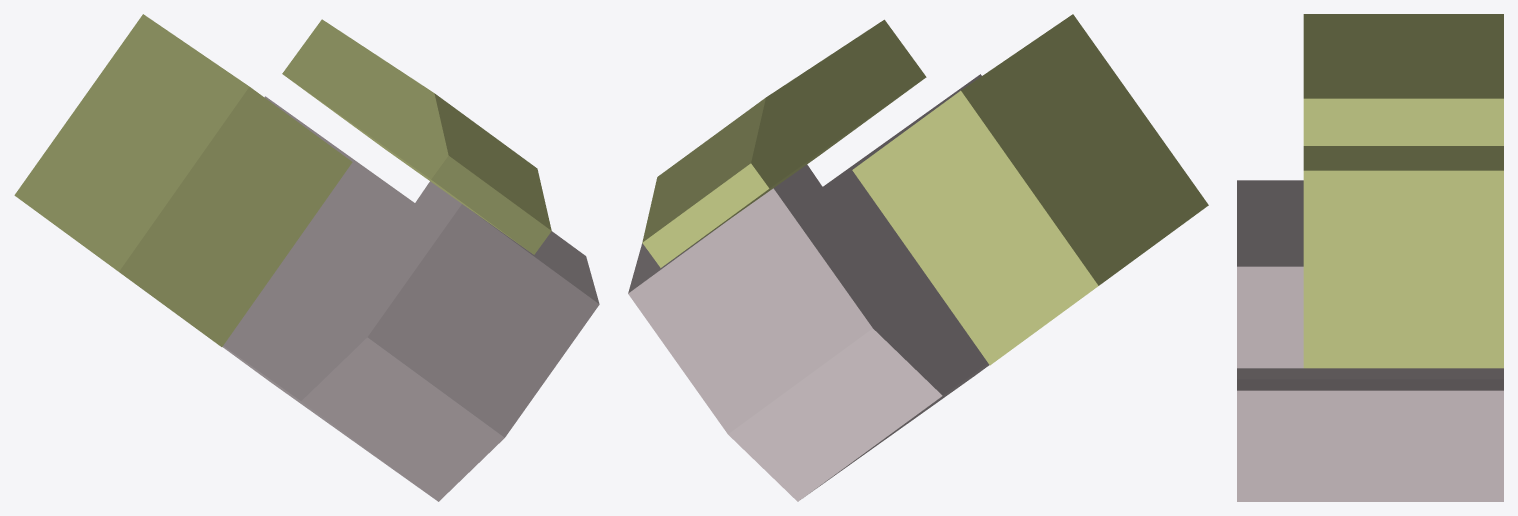
3 renders of one model, left to right at view 1: azimuth 30°, elevation 25°; view 2: azimuth 150°, elevation 25°; view 3: azimuth 270°, elevation 25°, orthographic. The views are drawn at different scales.
Visible parts, largest first — view 1: 0_1_3_2_2_1_2_1_3_2; view 2: 0_1_3_2_2_1_2_1_3_2; view 3: 0_1_3_2_2_1_2_1_3_2.
Part boxes in pixels (x1,y1,x2,y2): 0_1_3_2_2_1_2_1_3_2: [14, 14, 599, 501]; 0_1_3_2_2_1_2_1_3_2: [628, 14, 1208, 501]; 0_1_3_2_2_1_2_1_3_2: [1237, 14, 1503, 501].
Size of the model in its own units: 22.56 by 20.51 by 12.
